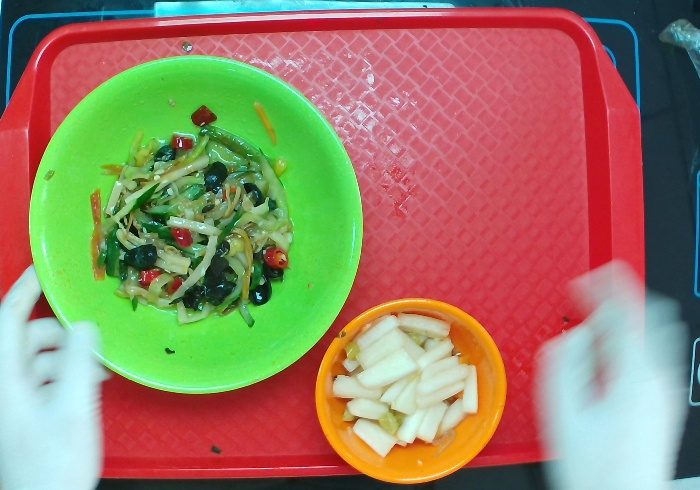YKMZ-Ju_Se_Yuan_Wan: (313, 296, 509, 485)
YKMZ-Lv_Se_Tang_Wan: (27, 53, 365, 396)
